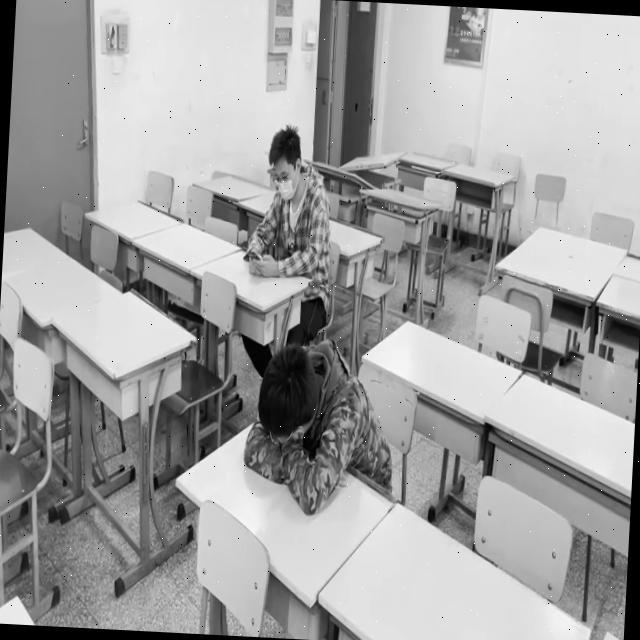phone: (246, 128, 332, 279)
sleep: (244, 343, 367, 516)
